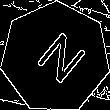N_SW: (25, 25, 86, 90)
